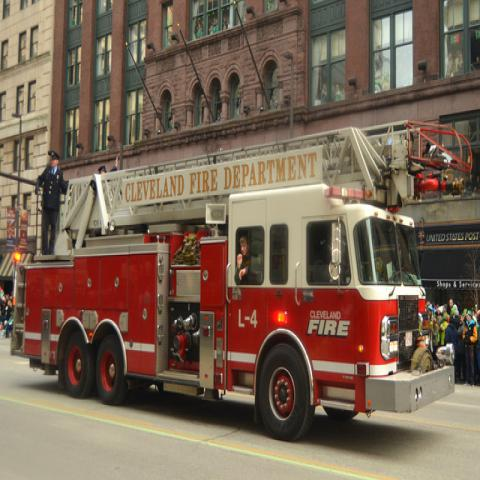truck: (12, 117, 474, 438)
